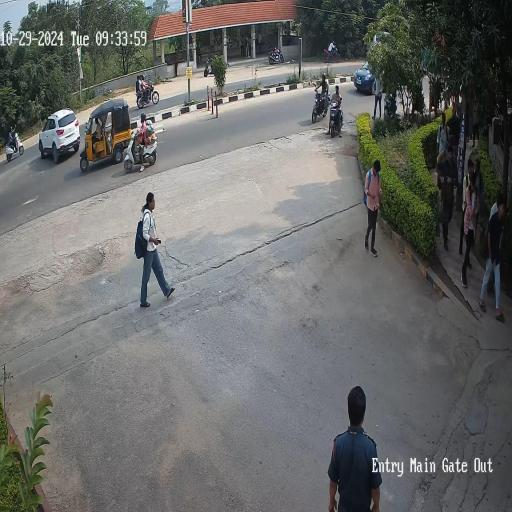helmet: (136, 109, 148, 127), (318, 69, 328, 87)
no helmet: (332, 82, 345, 100)
triple riding: (132, 68, 166, 106)
